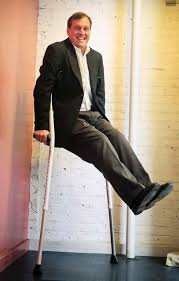crutches: (31, 11, 173, 274)
